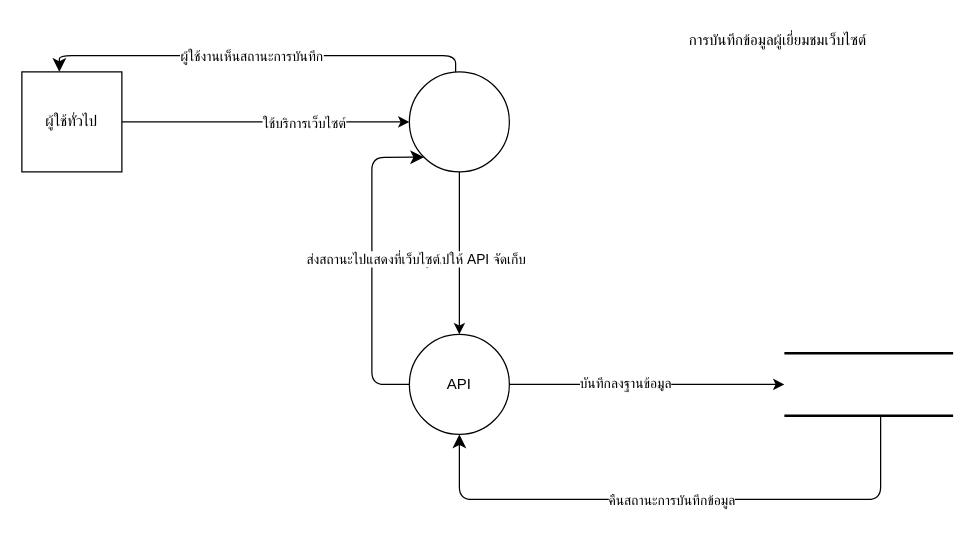
This 976x534 diagram has some shape labels left out. The shapes that lost their labels are listed below. From the top down, each one's box as (x1, y1, x2, y2) in pixels, then its label:
(408, 71, 509, 172): เว็บไซต์
(782, 351, 954, 416): ฐานข้อมูล
